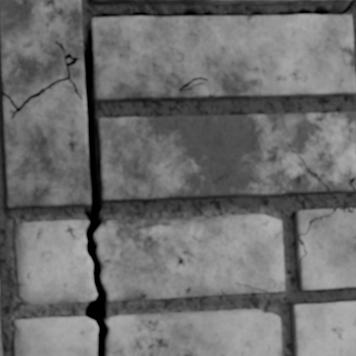brick: (92, 15, 355, 101), (99, 112, 355, 200), (3, 81, 89, 208), (0, 0, 84, 105), (297, 210, 355, 289), (292, 302, 355, 355), (295, 210, 331, 236), (92, 0, 349, 3), (0, 323, 2, 355)
broken_brick: (95, 213, 285, 302), (107, 308, 282, 355), (14, 219, 95, 304), (13, 315, 96, 355)
crack: (2, 0, 354, 355), (297, 206, 355, 264), (234, 281, 268, 292), (349, 175, 355, 191)
